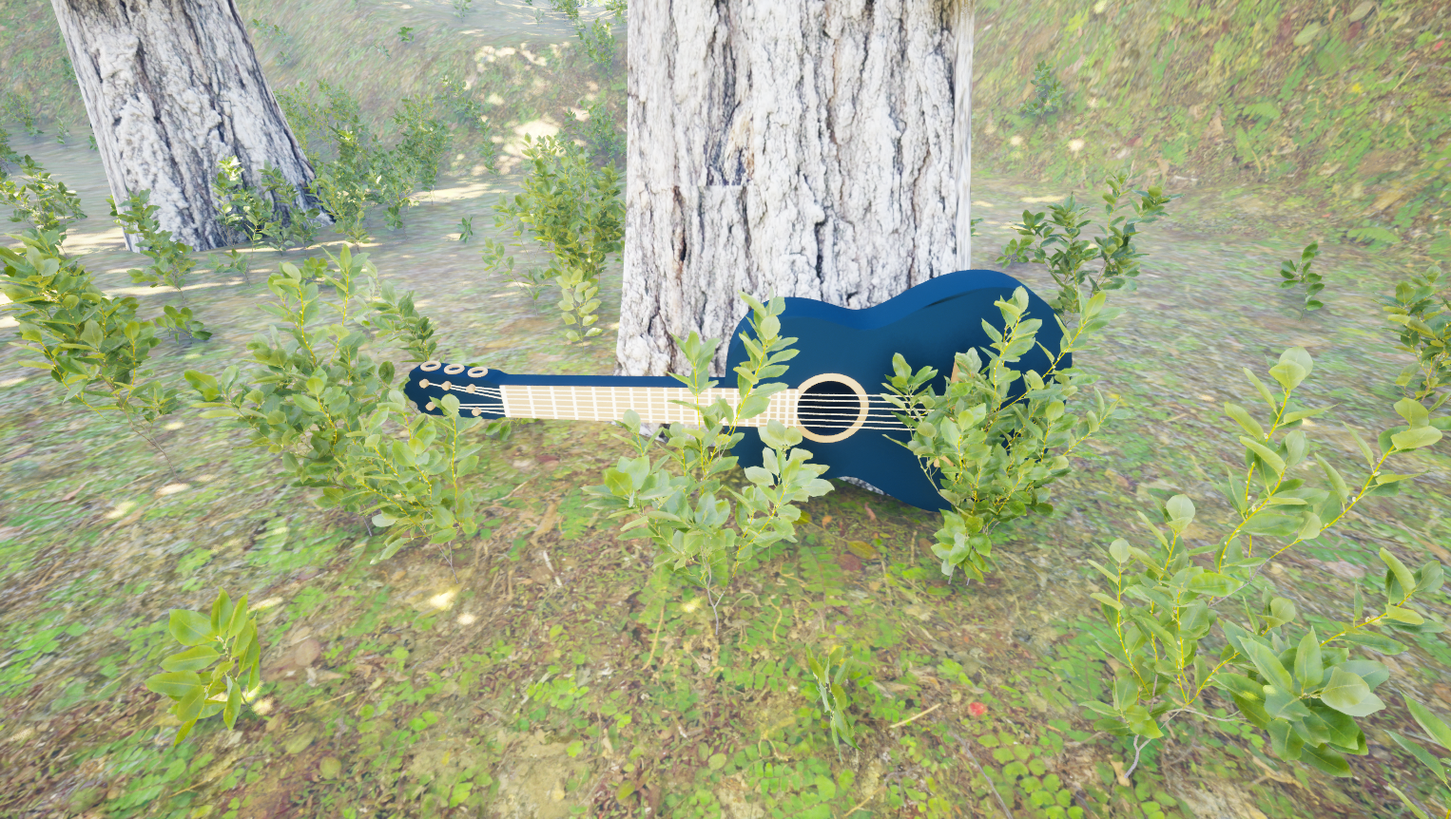Guitar: (359, 263, 1105, 518)
